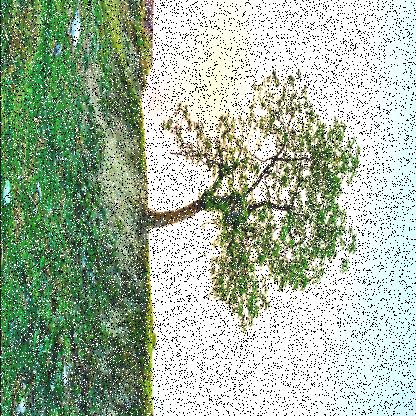Tree: (142, 68, 368, 328)
